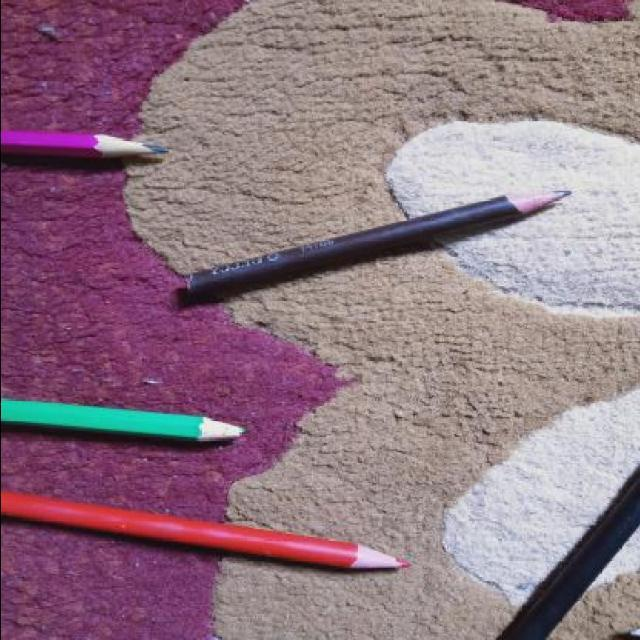Pencil: (499, 180, 583, 218), (82, 131, 168, 167), (339, 542, 413, 580), (192, 414, 254, 458)
